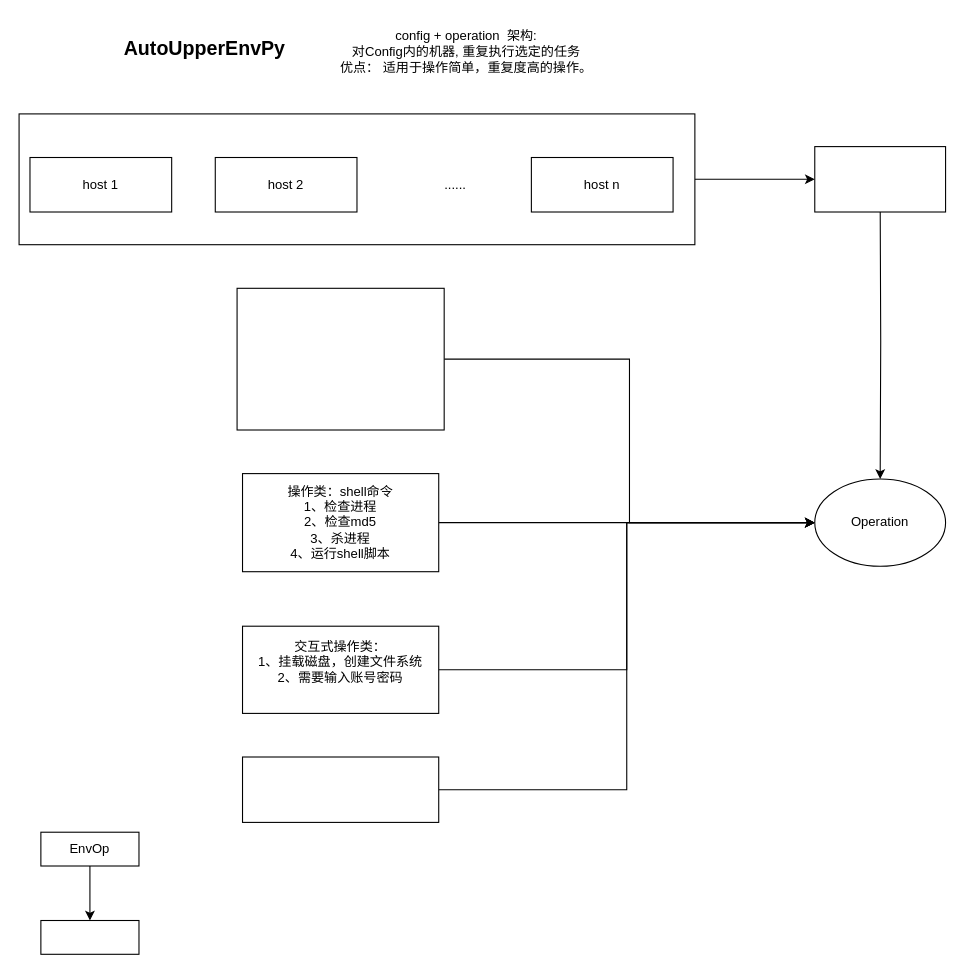
The diagram is 965 pixels wide and 973 high, and some of its shapes have lost their labels. The shapes that lost their labels are listed below. From the top down, each one's box as (x1, y1, x2, y2) in pixels, then its label:
(814, 146, 946, 212): config：dict
(236, 287, 444, 430): 1、上传文件 2、下载文件 3、替换文件 4、修改（创建）文件 5、备份文件 6、恢复文件 7、scp由一台节点， 传入同一网段的其它节点
(241, 756, 439, 822): 。。。 （组合类：任意多种操作，可以进行组合）
(40, 919, 139, 954): ProjectEnvOp
